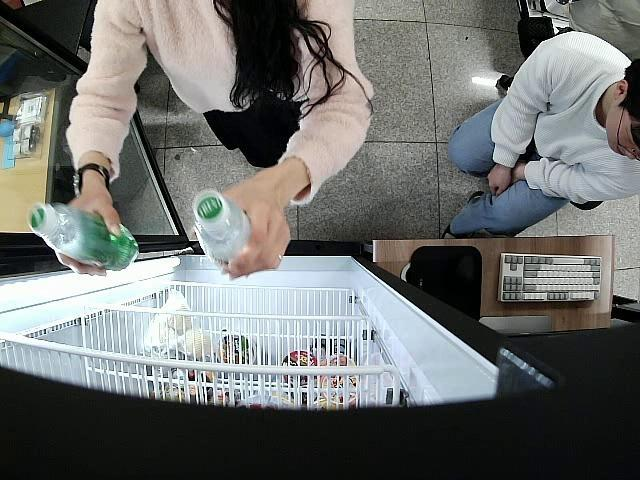18_trevi: (28, 204, 140, 271), (189, 188, 250, 271)
